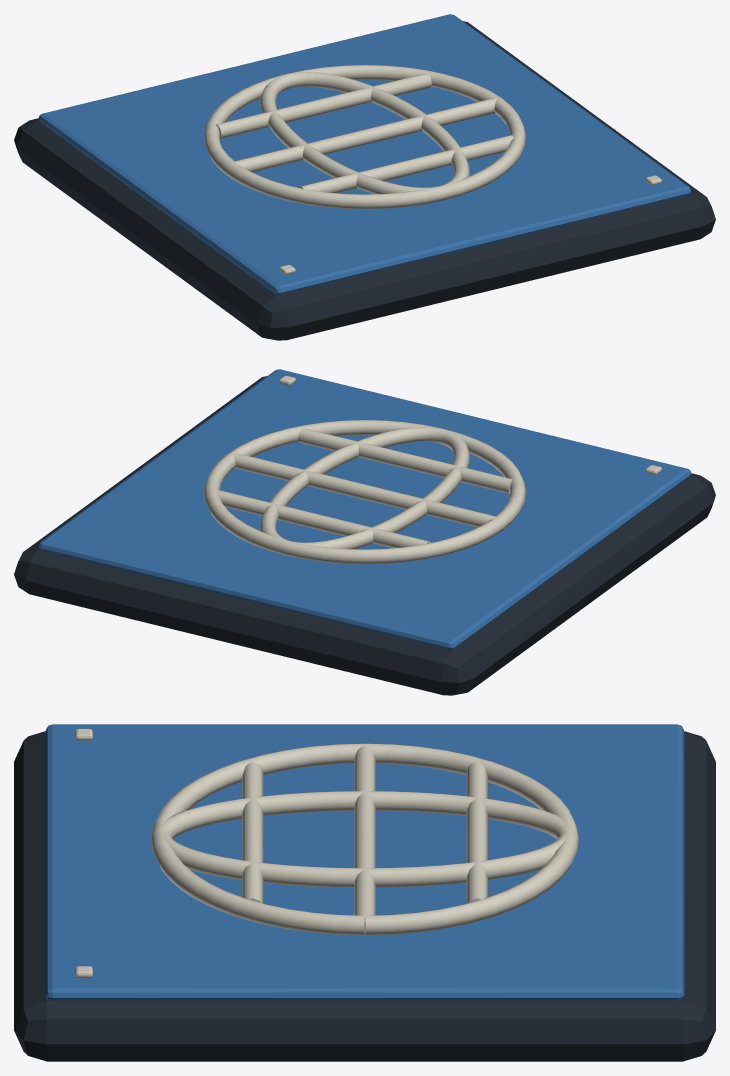
The model's file is app_browser.glb.
The picture shows the model from 3 angles, top to bottom: view 1: azimuth 30°, elevation 25°; view 2: azimuth 150°, elevation 25°; view 3: azimuth 270°, elevation 25°; orthographic projection. The views are drawn at different scales.
Parts seen in each view (by area): view 1: app_browser; view 2: app_browser; view 3: app_browser.
Boxes of the visible parts, bbox=[...] form: app_browser: bbox=[14, 14, 715, 340]; app_browser: bbox=[14, 369, 715, 695]; app_browser: bbox=[14, 724, 715, 1061].
Bounding box in the file's own units: 1 × 0.151 × 1.
